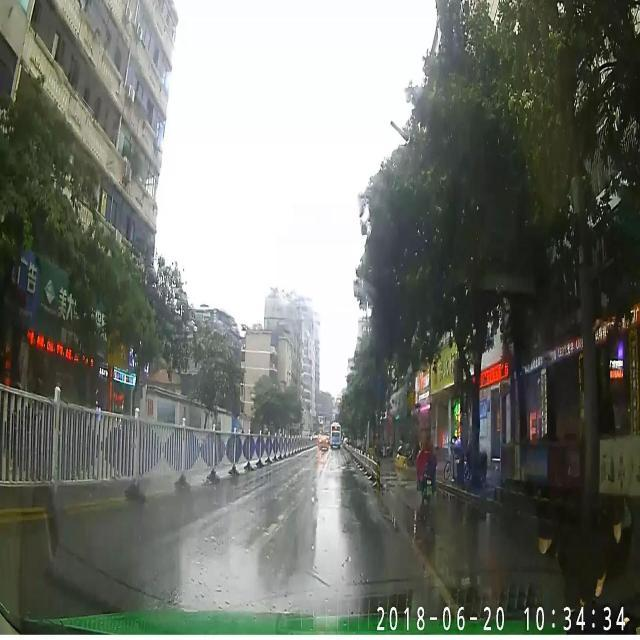car: (318, 432, 330, 454)
